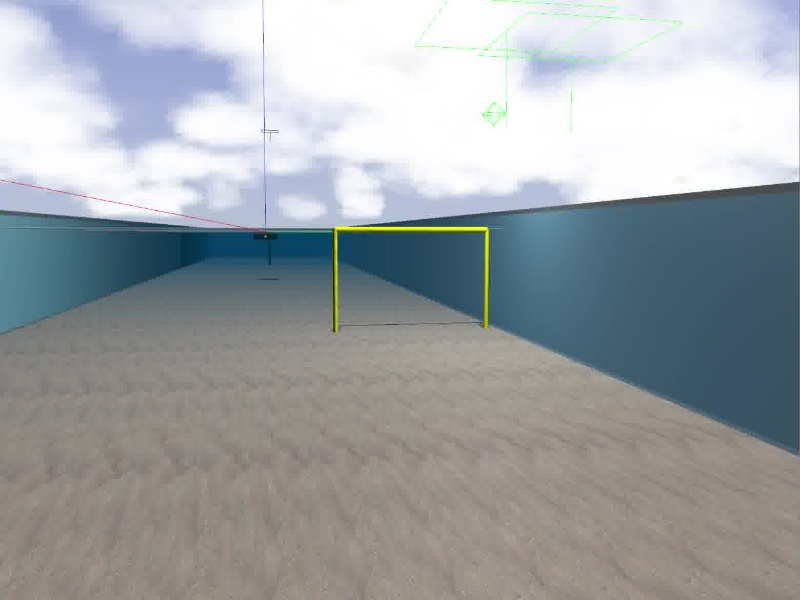gate: (332, 226, 490, 334)
